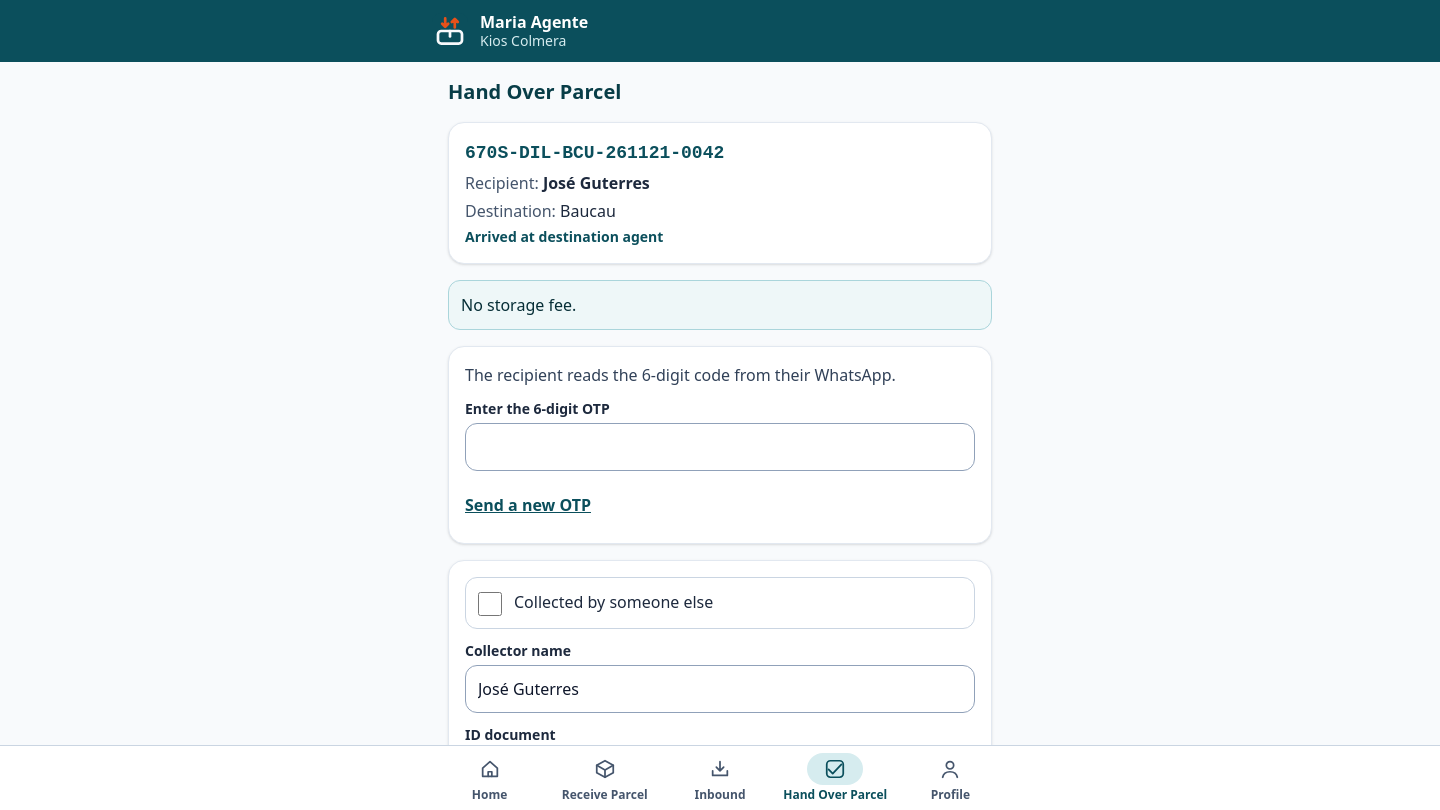
proof of delivery › a recipient who lost the WhatsApp gets a fresh OTP
This screenshot has width=1440, height=810.
Click the button "Send a new OTP": [528, 504] box [465, 482, 591, 526]
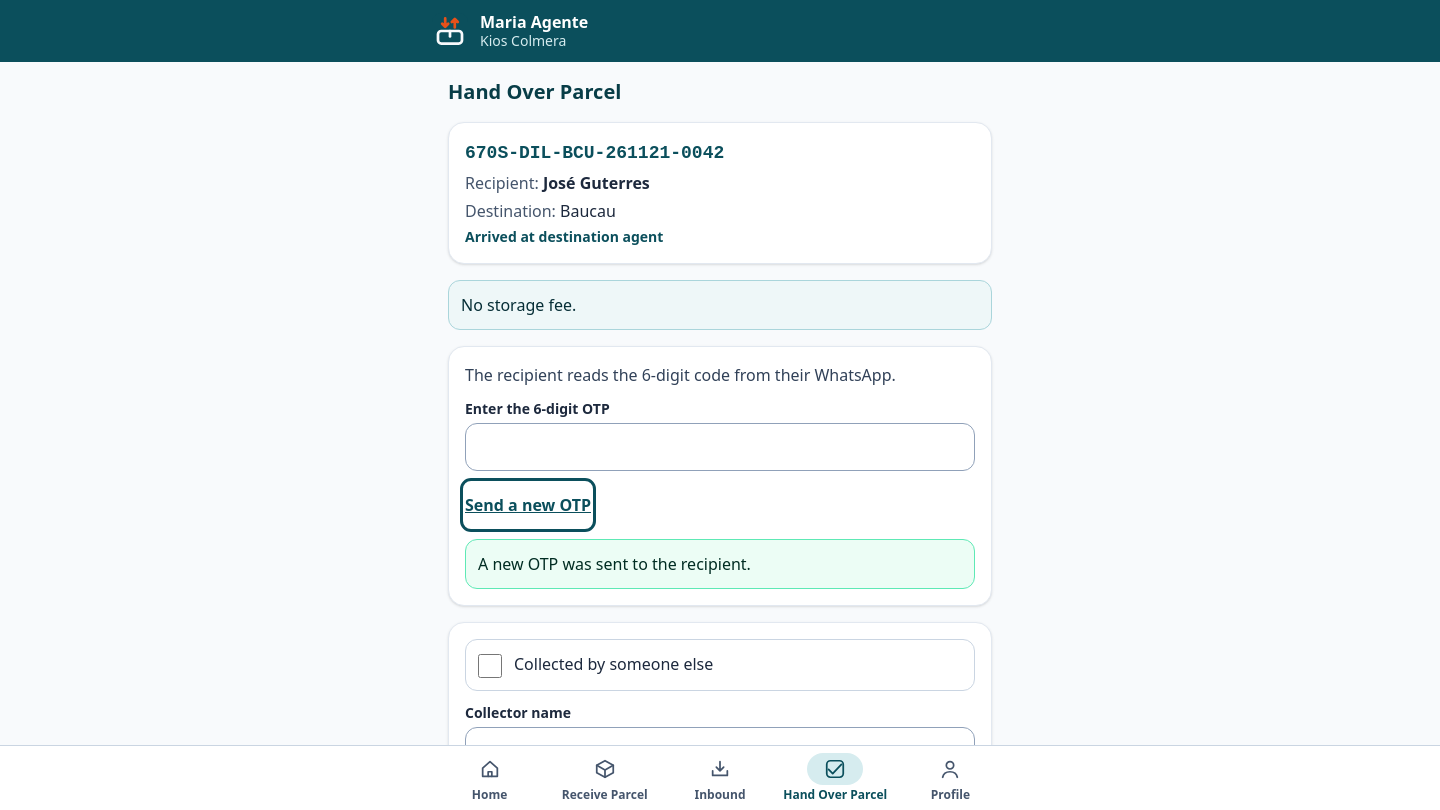
Expected: the text "A new OTP was sent to the recipient." is shown, [465, 538, 975, 588]
